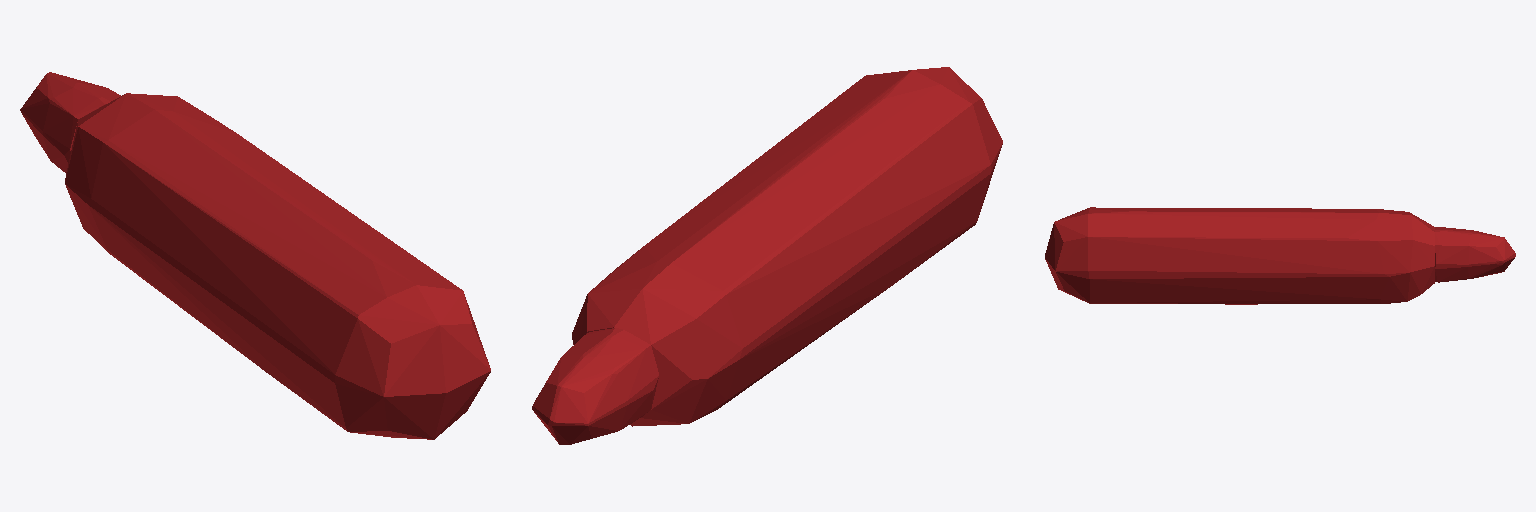
URDF robot description (blob625):
<robot name="blob625">
  <link name="random_obj_625">
    <contact>
      <lateral_friction value="1.0"/>
      <rolling_friction value="0.0"/>
      <inertia_scaling value="3.0"/>
      <contact_cfm value="0.0"/>
      <contact_erp value="1.0"/>
    </contact>
    <inertial>
      <origin rpy="0 0 0" xyz="0 0 0"/>
      <mass value="0.1"/>
      <inertia ixx="1" ixy="0" ixz="0" iyy="1" iyz="0" izz="0"/>
    </inertial>
    <visual>
      <origin rpy="0 0 0" xyz="0 0 0"/>
      <geometry>
        <mesh filename="625.obj" scale="0.015 0.015 0.015"/>
      </geometry>
      <material name="blockmat">
        <color rgba="0.68 0.18 0.19 1"/>
      </material>
    </visual>
    <collision>
      <origin rpy="0 0 0" xyz="0 0 0"/>
      <geometry>
        <mesh filename="625.obj" scale="0.015 0.015 0.015"/>
      </geometry>
    </collision>
  </link>
</robot>

--- What the picture shows (computed from the rendered views, not written in the file) ---
Views: 3 orthographic renders of the robot side by side, from view 1: azimuth 30°, elevation 25°; view 2: azimuth 150°, elevation 25°; view 3: azimuth 270°, elevation 25°.
Robot: blob625 — 1 links, 0 joints (none); root link random_obj_625; default pose: all joints at 0.
Visible links, largest first — view 1: random_obj_625; view 2: random_obj_625; view 3: random_obj_625.
Link boxes in pixels (left/top/right/bottom): random_obj_625: left=20, top=72, right=490, bottom=439; random_obj_625: left=532, top=67, right=1002, bottom=444; random_obj_625: left=1045, top=207, right=1515, bottom=304.
Size in the robot's own frame: 0.0301 by 0.1506 by 0.0314 metres.
Meshes: 1 distinct files referenced, 1 mesh visuals loaded (1 OBJ).